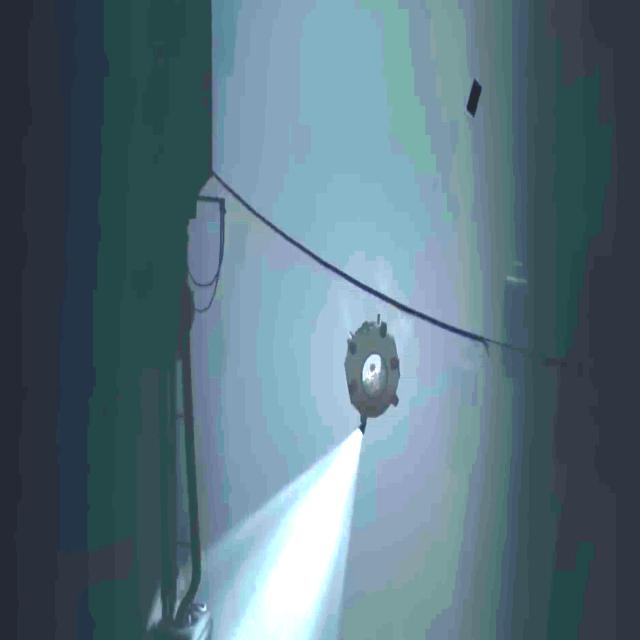boy: (367, 362, 380, 390)
submarine: (344, 314, 400, 434)
